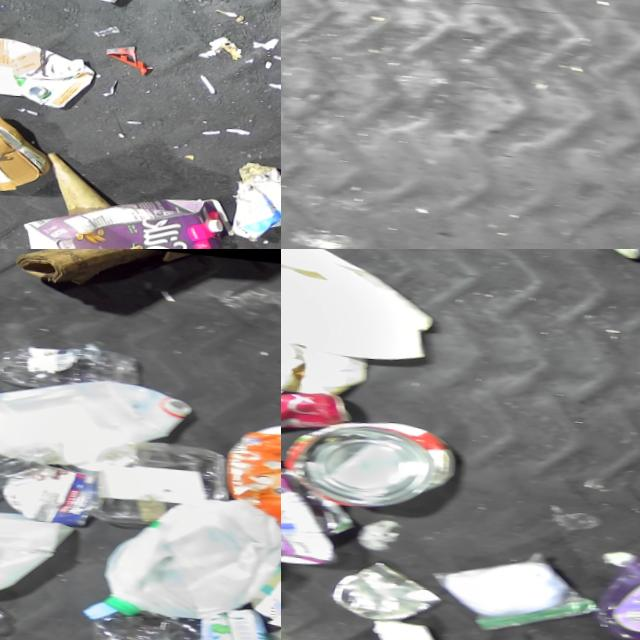can: (283, 408, 475, 514), (336, 554, 462, 625), (281, 382, 367, 436)
milk_jug: (102, 483, 281, 628), (0, 364, 201, 475), (281, 249, 458, 363), (0, 493, 86, 607)
non_white_jug: (25, 175, 255, 249), (0, 31, 105, 110)
plastic_bottle: (0, 333, 148, 396), (75, 595, 281, 640)
